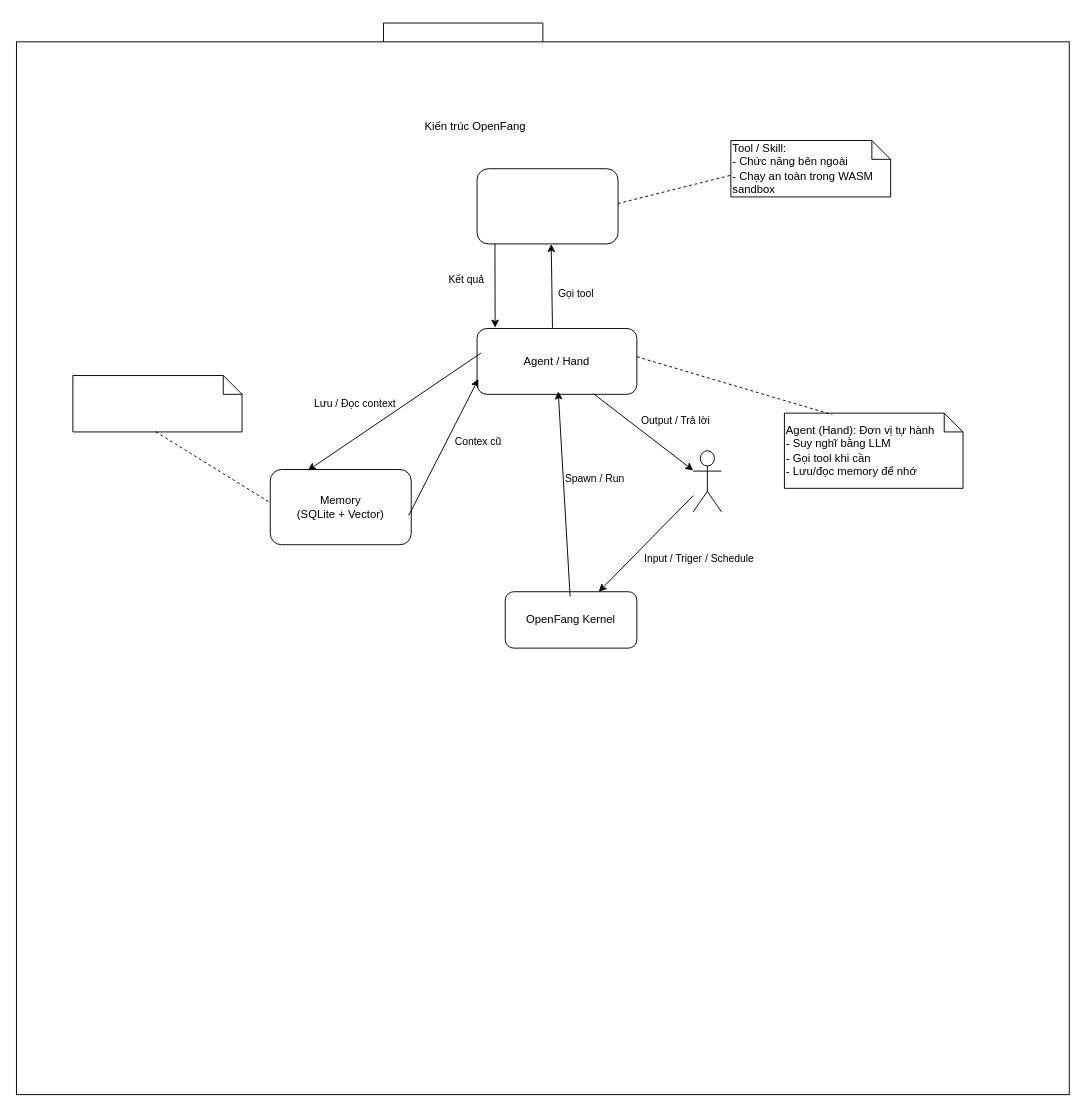
Some shapes in this 1086 by 1111 pixel diagram are drawn without their labels. Here are the shapes that lost their labels. From the top down, the centre of each, then its label:
[547,206]: Tools / Skills (WASM Sandbox
[157,403]: Memory: -lưu context giữa các lần chạy - SQLite + vector embeddings
[706,481]: Ussr
